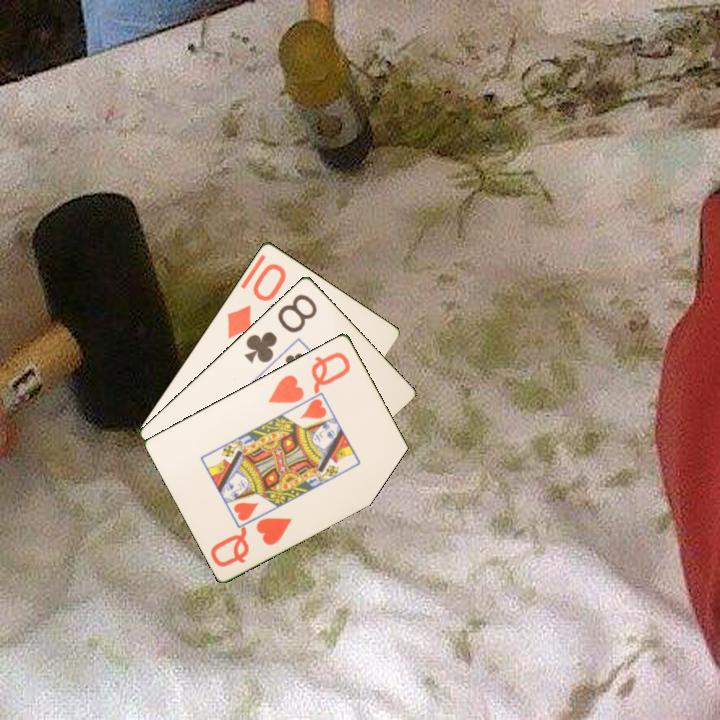10d: (223, 259, 289, 341)
8c: (240, 290, 320, 366)
Qh: (265, 348, 354, 406), (207, 513, 295, 570)
